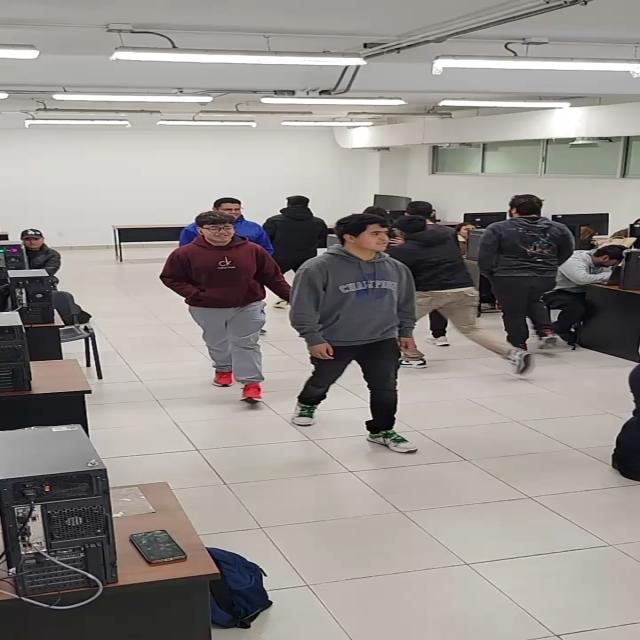Persona: (305, 209, 412, 441), (166, 212, 279, 396), (487, 192, 573, 342), (401, 210, 496, 340), (214, 174, 288, 238), (279, 193, 326, 265)
